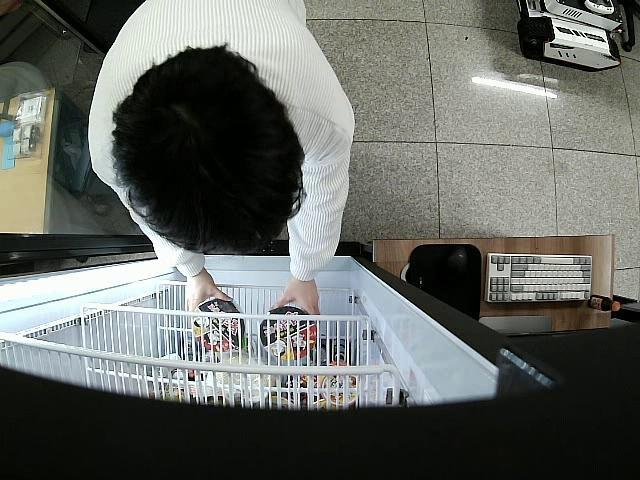07_buldak_L: (192, 298, 247, 357), (260, 308, 318, 358)
